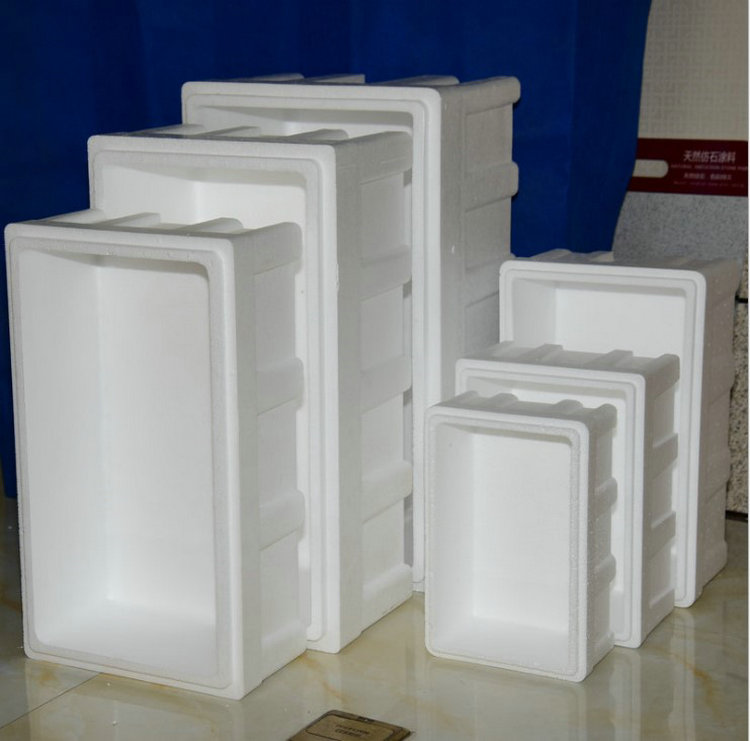Boxes: (6, 76, 519, 699), (425, 255, 736, 681)
